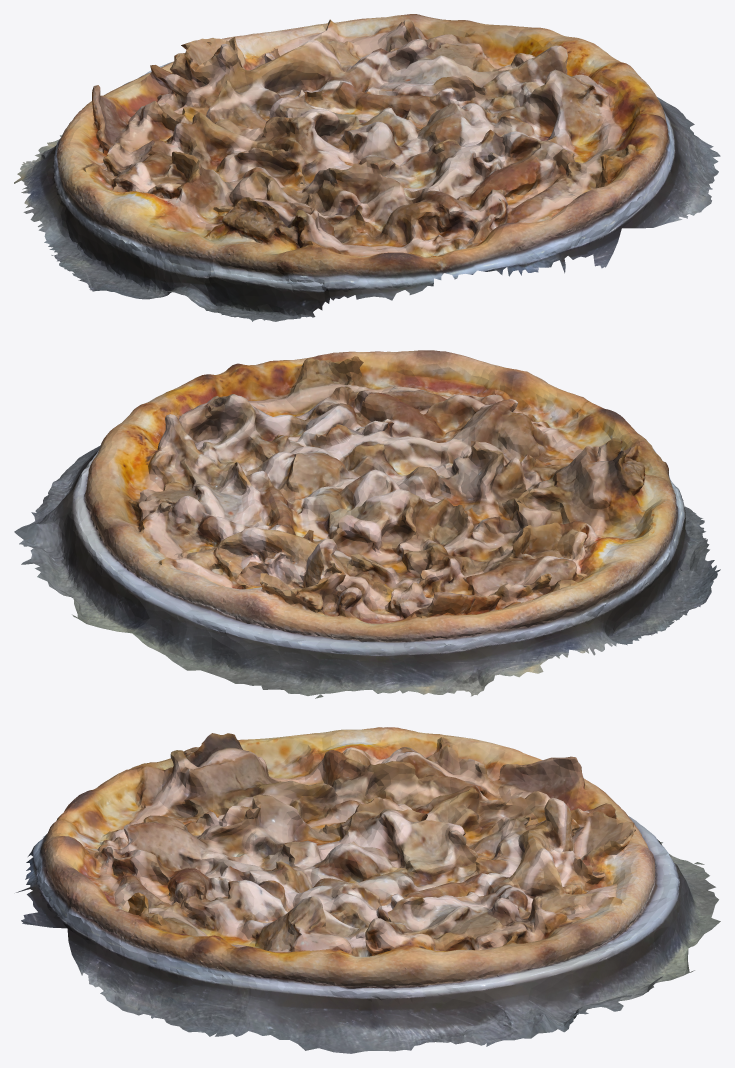
File: Kebab Pizza.glb
3 views of the same model, one above another, from view 1: azimuth 30°, elevation 25°; view 2: azimuth 150°, elevation 25°; view 3: azimuth 270°, elevation 25° (orthographic). The views are drawn at different scales.
Visible parts, largest first — view 1: Kebab Pizza; view 2: Kebab Pizza; view 3: Kebab Pizza.
Boxes of the visible parts, x1,y1,x2,y2 form: Kebab Pizza: (14,14,720,321); Kebab Pizza: (14,350,720,698); Kebab Pizza: (16,727,720,1053).
Size of the model in its own units: 1.69 by 0.2778 by 1.65.
1 material, 1 textured.
